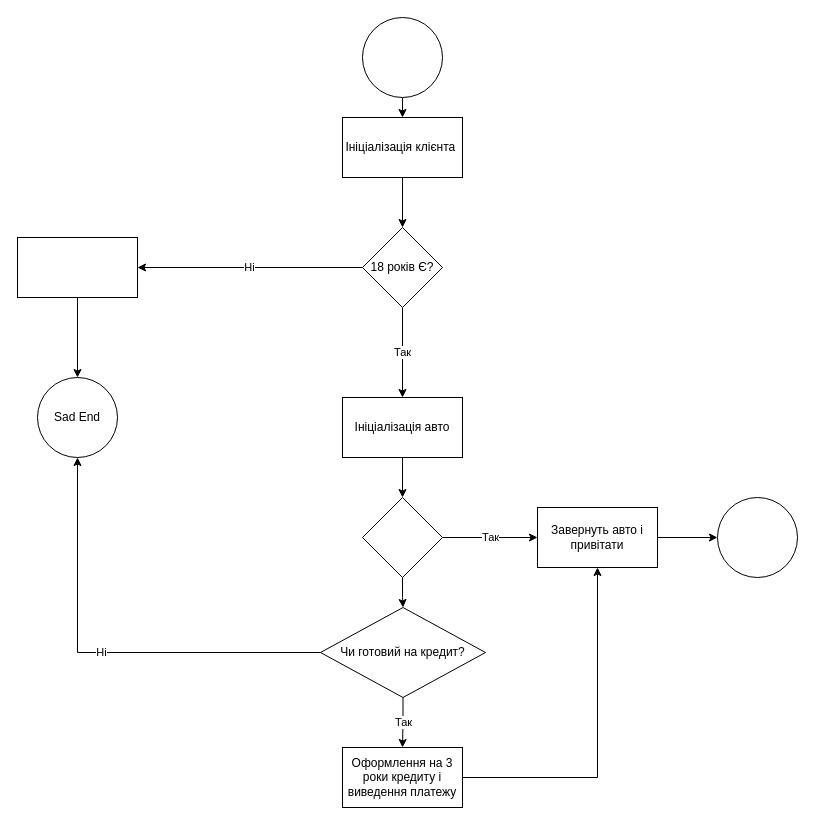
Some shapes in this 815 by 825 pixel diagram are drawn without their labels. Here are the shapes that lost their labels. From the top down, the centre of each, then its label:
point 402,57: Початок
point 77,267: Прийдіть через "n" років (n = 18 - вік клієнта)
point 402,537: Гроші Є?
point 757,537: Happy End
